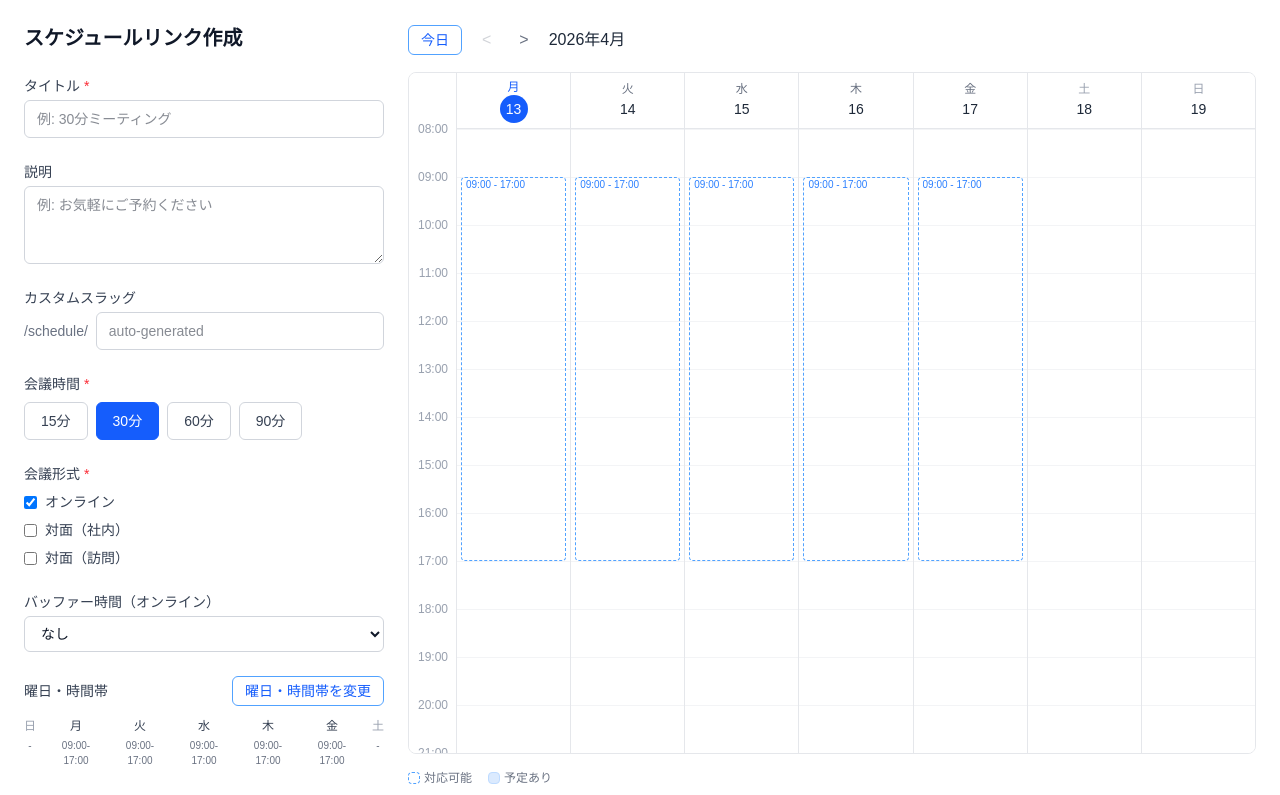
ScheduleLinkForm › should show buffer time when visit mode is selected
// Enable visit mode
Click the checkbox labelled "対面（訪問）" at (30, 558), box x1=24 y1=552 x2=37 y2=564
(page scrolled)
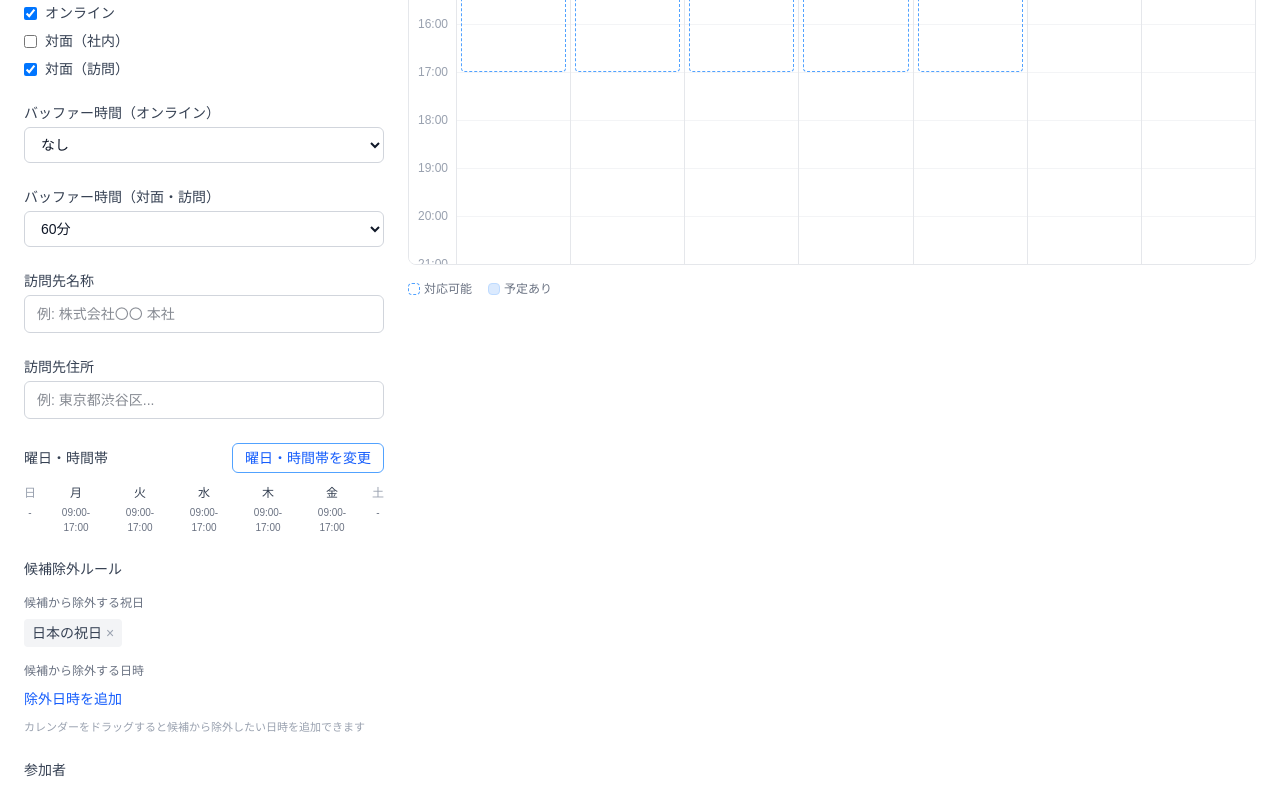
Now the field labelled "訪問先名称" is shown, box x1=24 y1=295 x2=384 y2=333
Now the field labelled "訪問先住所" is shown, box x1=24 y1=381 x2=384 y2=419
